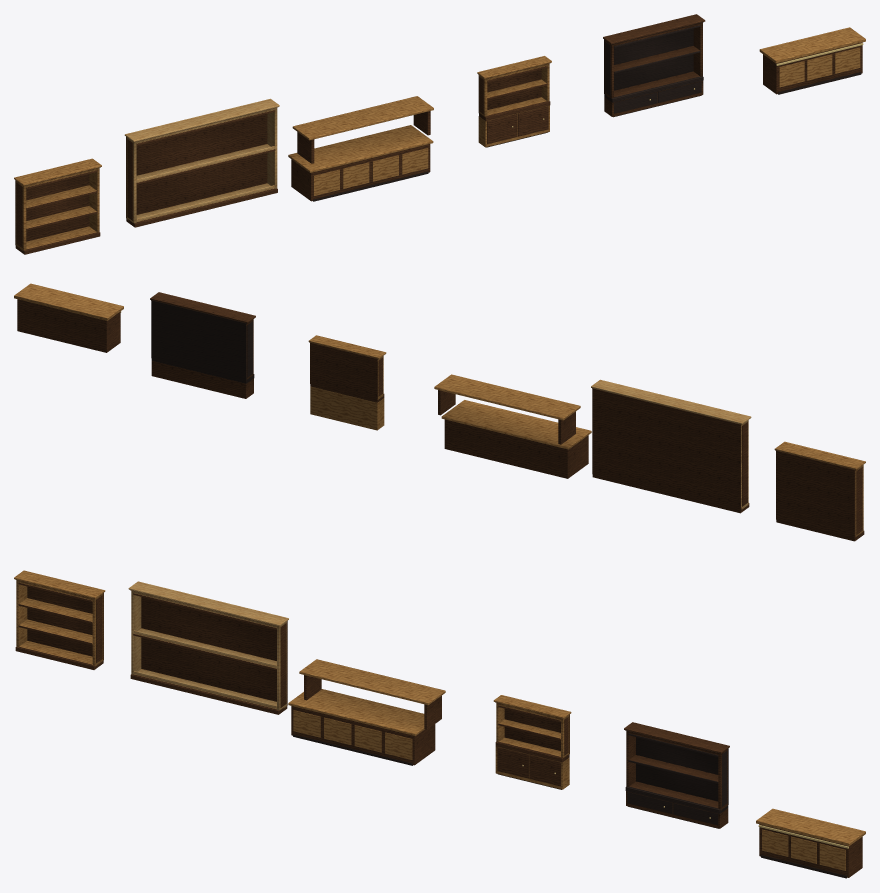
The model's file is store.glb.
The picture shows the model from 3 angles, top to bottom: view 1: azimuth 30°, elevation 25°; view 2: azimuth 150°, elevation 25°; view 3: azimuth 330°, elevation 25°; orthographic projection. The views are drawn at different scales.
Visible parts, largest first — view 1: vinyl_back, dvd_back, listen_top, listen_upper, cd_back, listen_body, counter_top, vinyl_crown, counter_body, tape_back, dvd_crown, cd_crown (+28 smaller); view 2: vinyl_back, dvd_back, cd_back, listen_body, counter_body, listen_top, tape_back, listen_upper, tape_cab, counter_top, vinyl_crown, dvd_cab (+4 smaller); view 3: vinyl_back, dvd_back, listen_top, listen_upper, cd_back, listen_body, counter_top, vinyl_crown, counter_body, tape_back, dvd_crown, cd_crown (+19 smaller).
Part boxes in pixels (left/top/right/bottom): vinyl_back: left=126, top=114, right=267, bottom=218; dvd_back: left=604, top=28, right=693, bottom=93; listen_top: left=288, top=125, right=433, bottom=172; listen_upper: left=292, top=96, right=433, bottom=140; cd_back: left=15, top=174, right=89, bottom=244; listen_body: left=291, top=144, right=430, bottom=201; counter_top: left=759, top=27, right=865, bottom=63; vinyl_crown: left=124, top=98, right=279, bottom=141; counter_body: left=763, top=42, right=862, bottom=94; tape_back: left=478, top=69, right=541, bottom=113; dvd_crown: left=603, top=14, right=705, bottom=44; cd_crown: left=14, top=158, right=101, bottom=185; vinyl_back: left=592, top=388, right=741, bottom=510; dvd_back: left=151, top=300, right=246, bottom=380; cd_back: left=776, top=450, right=855, bottom=538; listen_body: left=444, top=419, right=588, bottom=478; counter_body: left=17, top=299, right=120, bottom=352; listen_top: left=441, top=400, right=591, bottom=449; tape_back: left=310, top=342, right=377, bottom=399; listen_upper: left=434, top=374, right=580, bottom=420; tape_cab: left=310, top=386, right=384, bottom=430; counter_top: left=14, top=283, right=123, bottom=320; vinyl_crown: left=591, top=379, right=751, bottom=424; dvd_cab: left=151, top=361, right=253, bottom=398; vinyl_back: left=141, top=597, right=287, bottom=705; dvd_back: left=636, top=737, right=728, bottom=804; listen_top: left=288, top=689, right=424, bottom=735; listen_upper: left=299, top=659, right=445, bottom=705; cd_back: left=27, top=586, right=103, bottom=660; listen_body: left=291, top=706, right=435, bottom=765; counter_top: left=756, top=808, right=865, bottom=845; vinyl_crown: left=128, top=581, right=288, bottom=626; counter_body: left=759, top=824, right=862, bottom=877; tape_back: left=504, top=708, right=569, bottom=754; dvd_crown: left=624, top=722, right=729, bottom=753; cd_crown: left=14, top=570, right=105, bottom=598.
Bounding box in the file's own units: 85.8 × 9.41 × 5.3.
5 materials, 4 textured.
